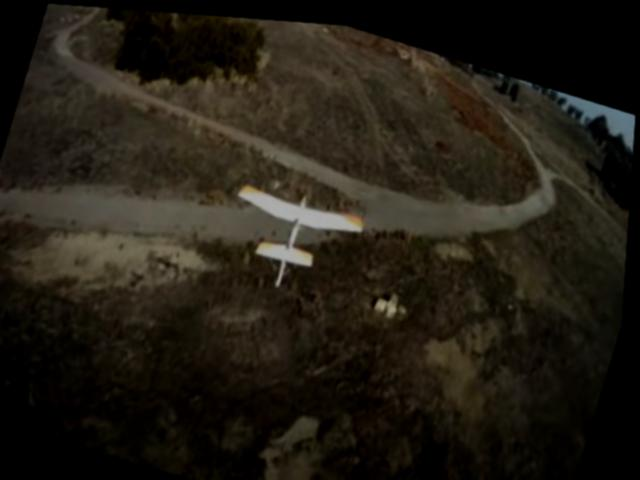uav: (210, 158, 379, 310)
